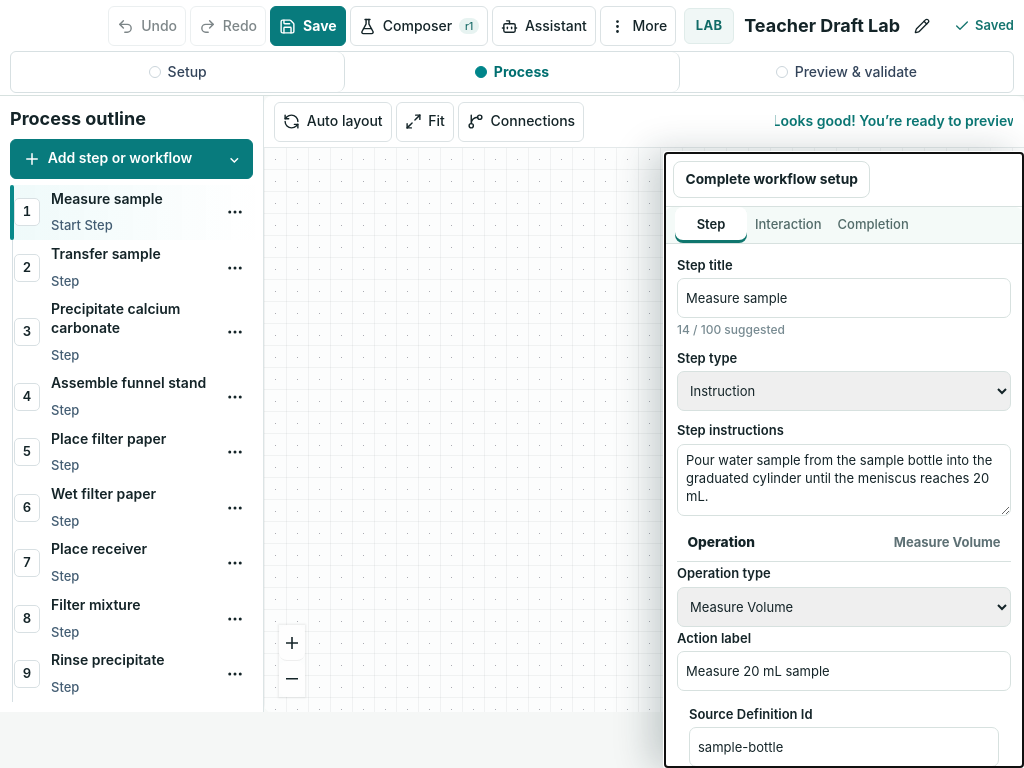
Test case: Studio stage workbenches › keeps Setup and Preview stage ownership explicit
The image size is (1024, 768).
Click the tab "Setup" at (178, 72), box [11,52,345,92]
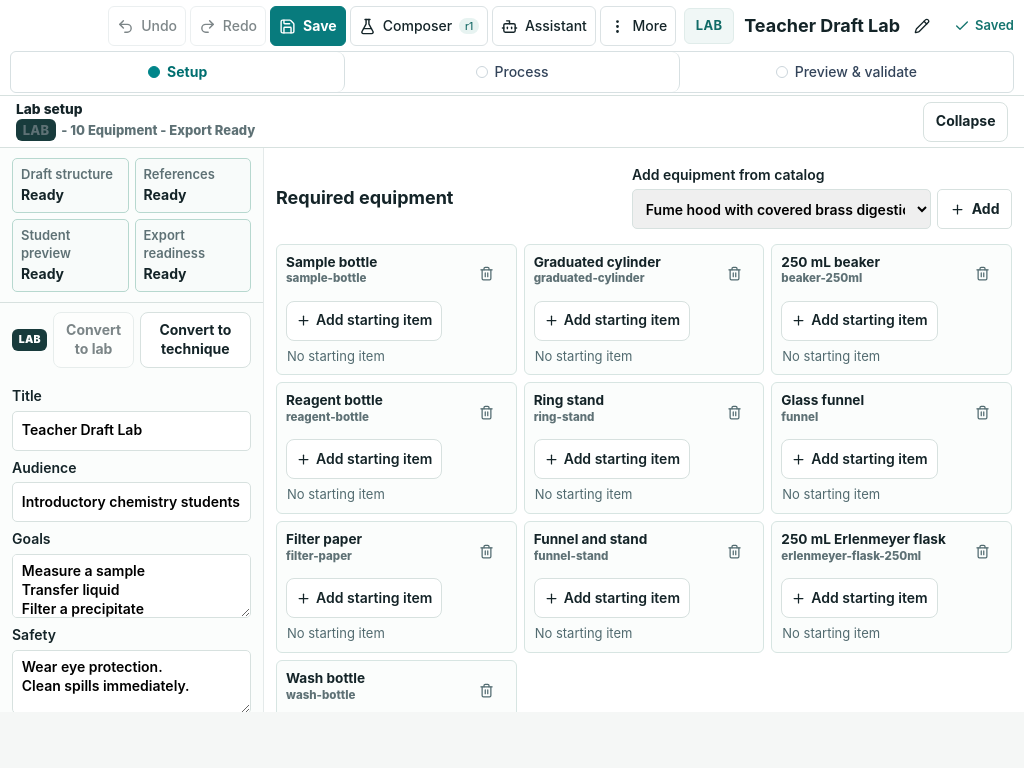
Expected: the element named "Draft setup and readiness" is shown, [0,148,264,712]
Expected: the element labelled "Required equipment" is shown, [264,148,1023,712]
Click the tab "Preview & validate" at (846, 72), box [680,52,1013,92]
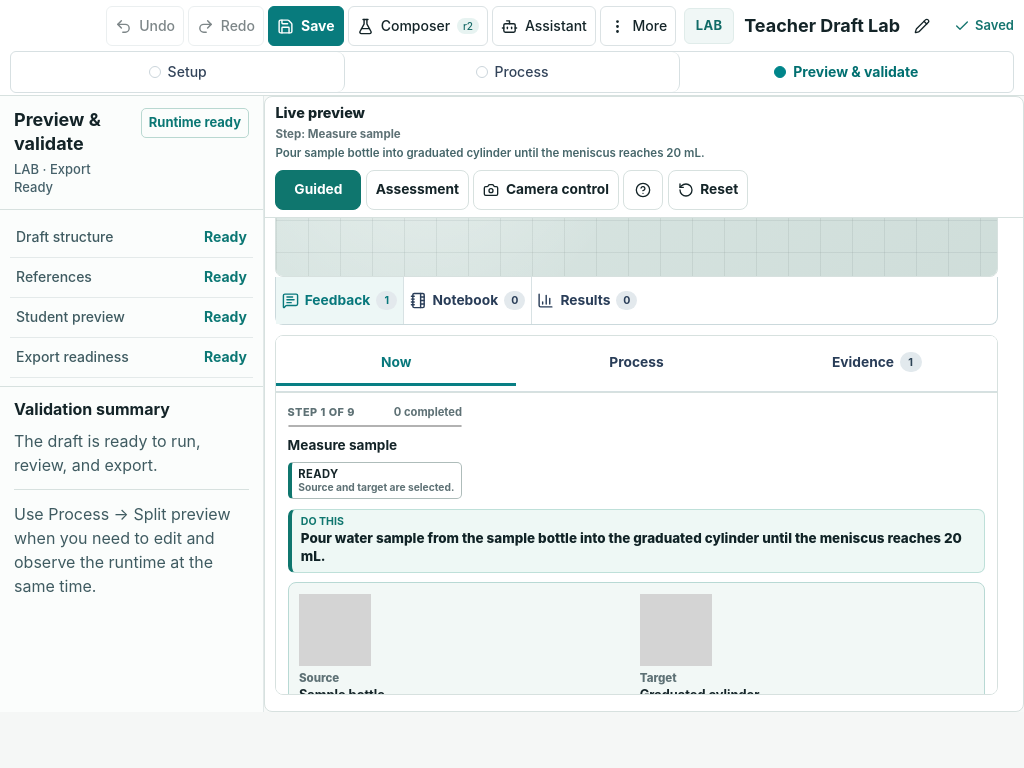
Expected: the element named "Preview readiness and validation" is shown, [0,96,264,712]
